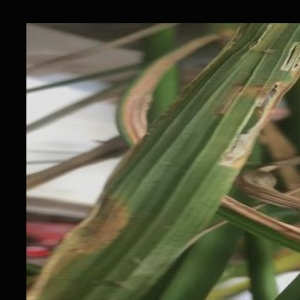Leaf_Blast: (44, 161, 171, 300)
